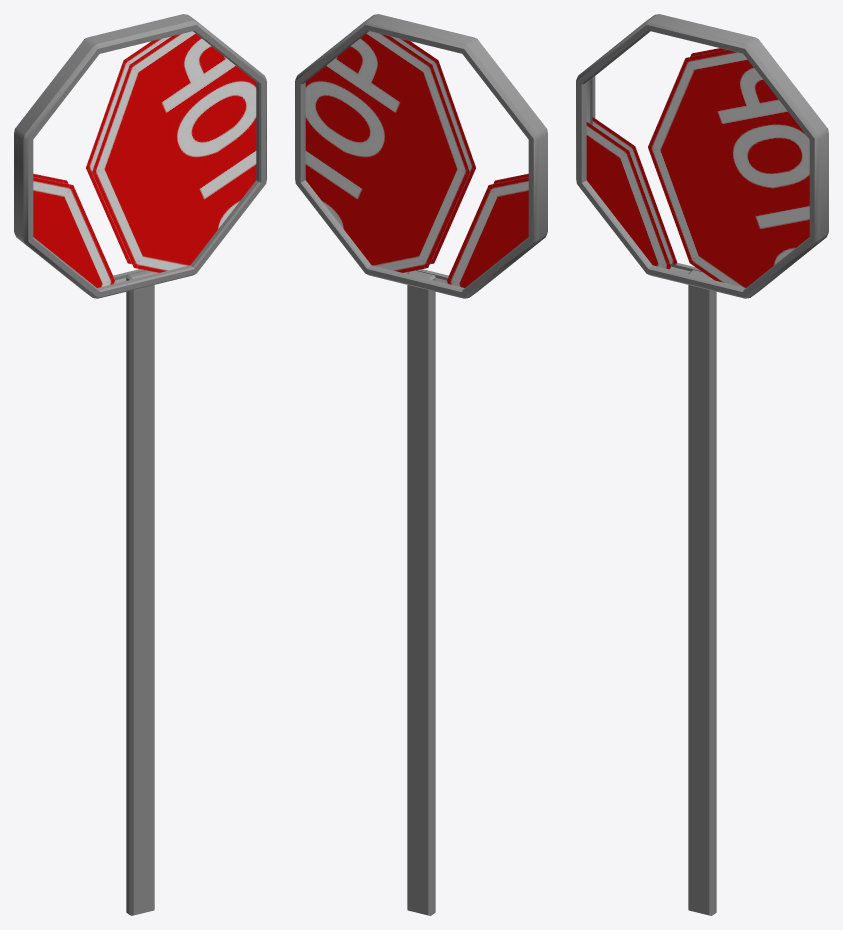
The model's file is Stop Sign.FBX.
3 renders of one model, left to right at view 1: azimuth 30°, elevation 25°; view 2: azimuth 150°, elevation 25°; view 3: azimuth 330°, elevation 25°, orthographic.
Visible parts, largest first — view 1: Box001; view 2: Box001; view 3: Box001.
Part boxes in pixels (left/top/right/bottom): Box001: left=14, top=14, right=266, bottom=915; Box001: left=295, top=14, right=547, bottom=915; Box001: left=576, top=14, right=828, bottom=915.
Size of the model in its own units: 30.41 by 105 by 2.92.
Materials: 2 (1 with a texture image).
